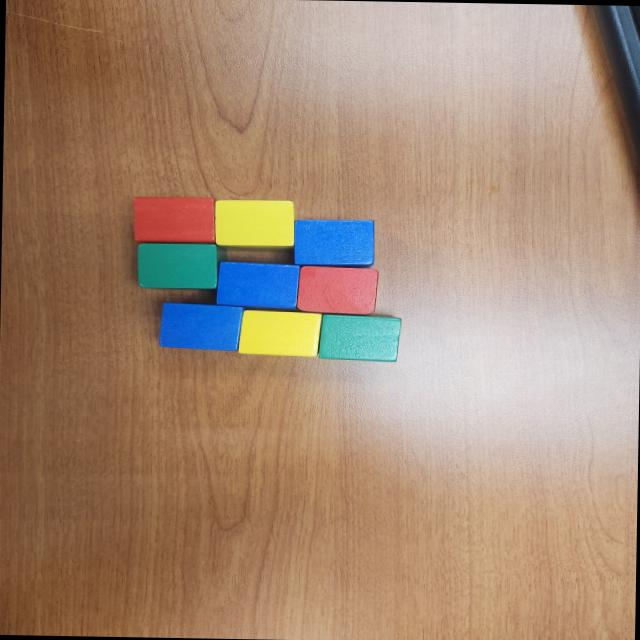blue: (158, 302, 245, 351), (216, 262, 300, 310), (293, 218, 376, 266)
green: (135, 240, 229, 290), (316, 314, 404, 362)
red: (296, 264, 377, 314), (132, 196, 216, 243)
yellow: (238, 310, 322, 356), (213, 198, 295, 245)
